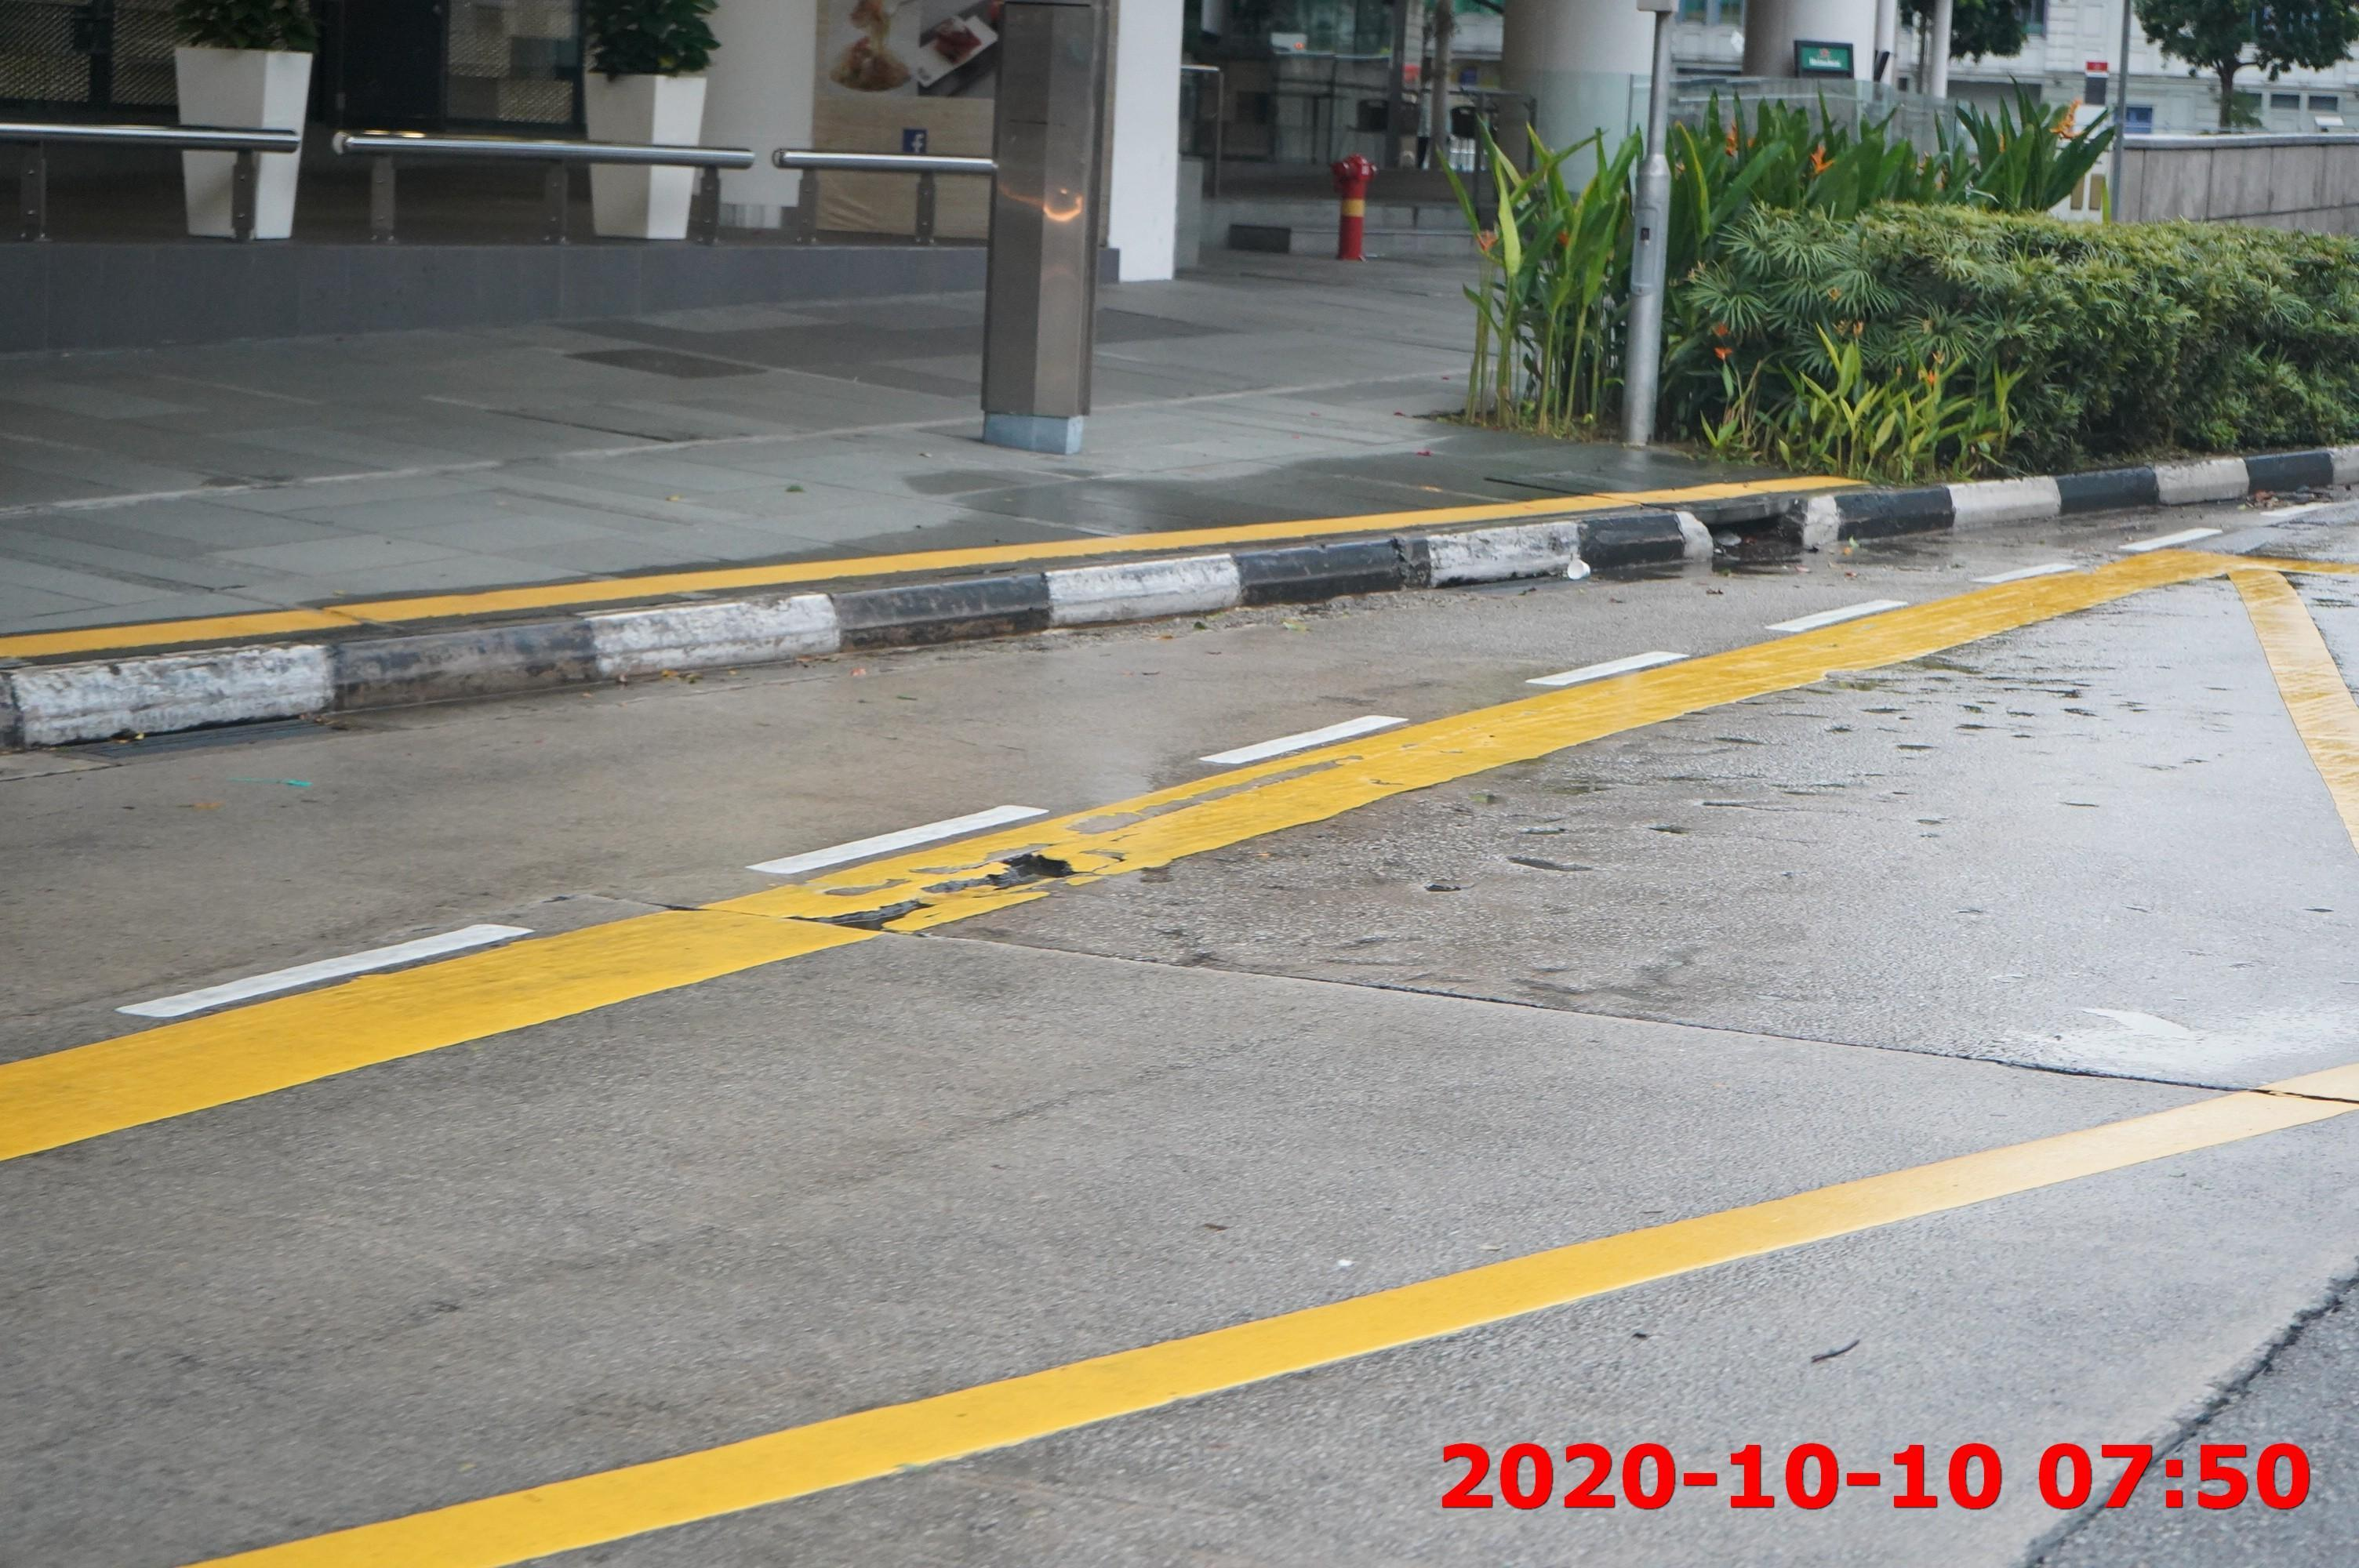peel off with cracks: (971, 837, 1094, 894)
